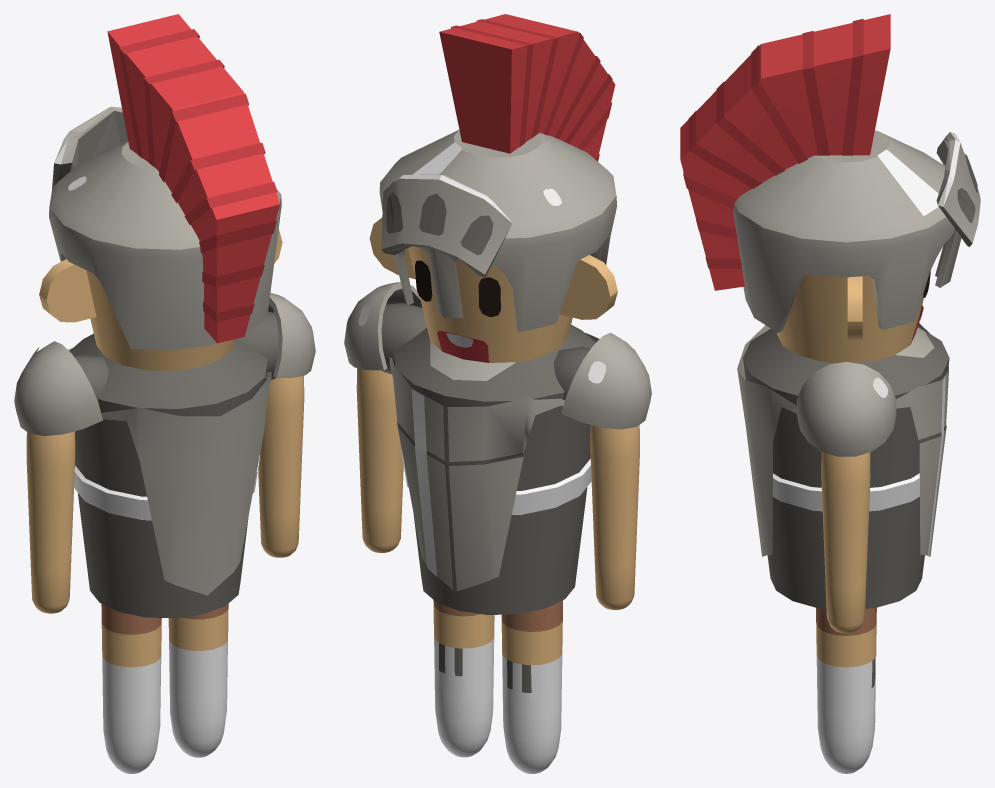
File: player01.fbx
3 views of the same model, side by side, from view 1: azimuth 30°, elevation 25°; view 2: azimuth 150°, elevation 25°; view 3: azimuth 270°, elevation 25° (orthographic). The views are drawn at different scales.
Parts seen in each view (by area): view 1: player01; view 2: player01; view 3: player01.
Boxes of the visible parts, bbox=[...] form: player01: bbox=[14, 14, 315, 773]; player01: bbox=[344, 14, 651, 773]; player01: bbox=[680, 14, 980, 773].
Bounding box in the file's own units: 31.68 × 75.47 × 28.5.
Materials: 2 (2 with a texture image).
